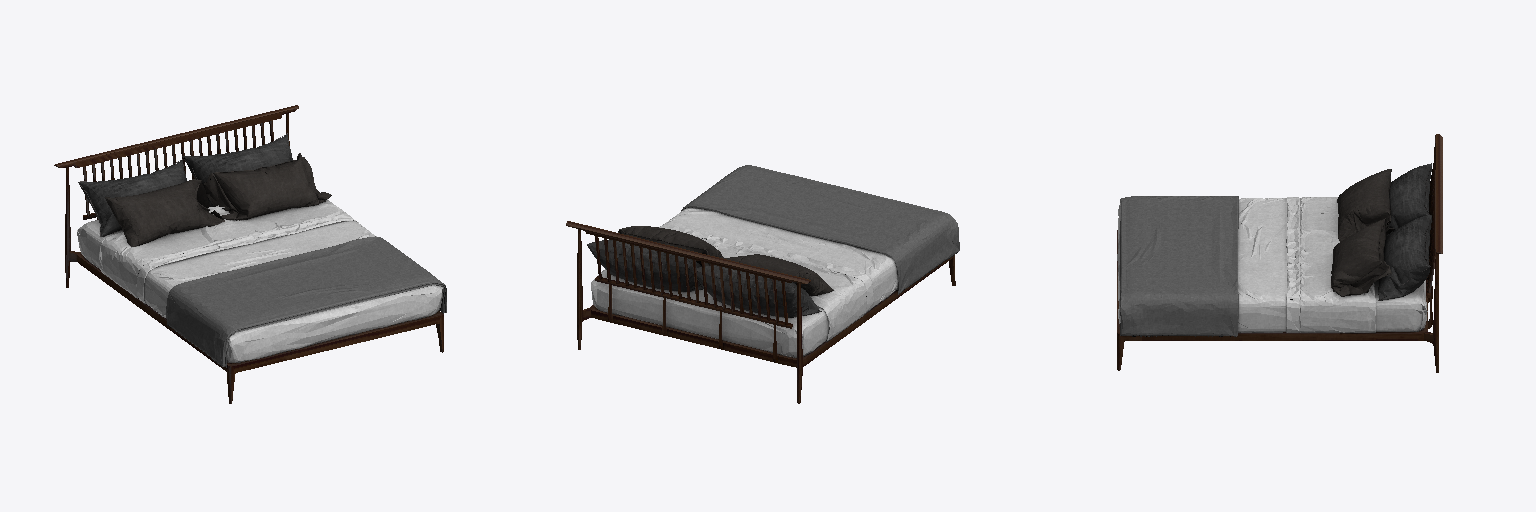
3 renders of one model, left to right at view 1: azimuth 30°, elevation 25°; view 2: azimuth 150°, elevation 25°; view 3: azimuth 270°, elevation 25°, orthographic.
Visible parts, largest first — view 1: solid_002, solid_004, solid_003, solid_006, solid_005, solid_007; view 2: solid_002, solid_004, solid_006, solid_005, solid_003, solid_007; view 3: solid_004, solid_002, solid_003, solid_005, solid_006, solid_007.
Boxes of the visible parts, box(x1,y1,x2,y2) form: solid_002: box(77, 199, 443, 362); solid_004: box(166, 236, 446, 367); solid_003: box(105, 153, 331, 246); solid_006: box(54, 105, 443, 403); solid_005: box(78, 135, 292, 236); solid_007: box(137, 215, 358, 303); solid_002: box(591, 207, 897, 357); solid_004: box(681, 165, 959, 294); solid_006: box(566, 221, 955, 403); solid_005: box(587, 240, 820, 317); solid_003: box(609, 226, 833, 295); solid_007: box(659, 225, 873, 314); solid_004: box(1120, 196, 1238, 336); solid_002: box(1117, 197, 1427, 332); solid_003: box(1331, 169, 1394, 296); solid_005: box(1378, 163, 1431, 300); solid_006: box(1117, 134, 1442, 372); solid_007: box(1286, 197, 1299, 332).
Size of the model in its own units: 2.05 by 0.9659 by 2.36.
Materials: 1 (1 with a texture image).